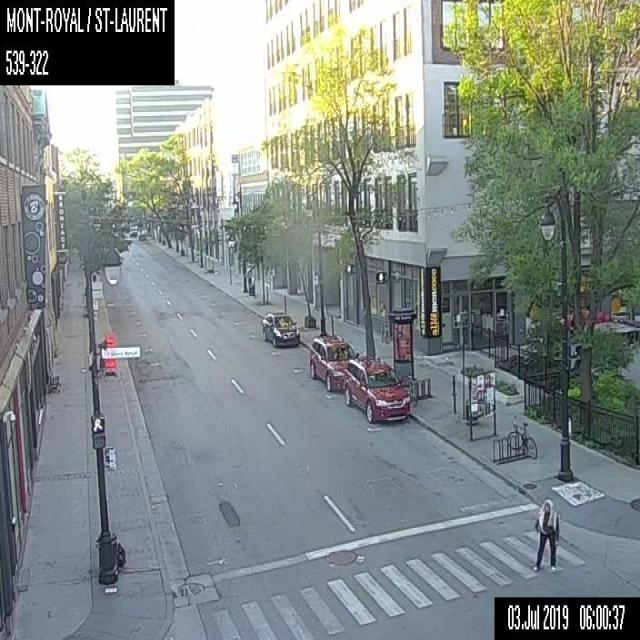construction: (102, 334, 116, 374)
pedestrian: (531, 496, 560, 572)
vehicle: (344, 358, 410, 422), (309, 334, 351, 394), (260, 309, 301, 347)
